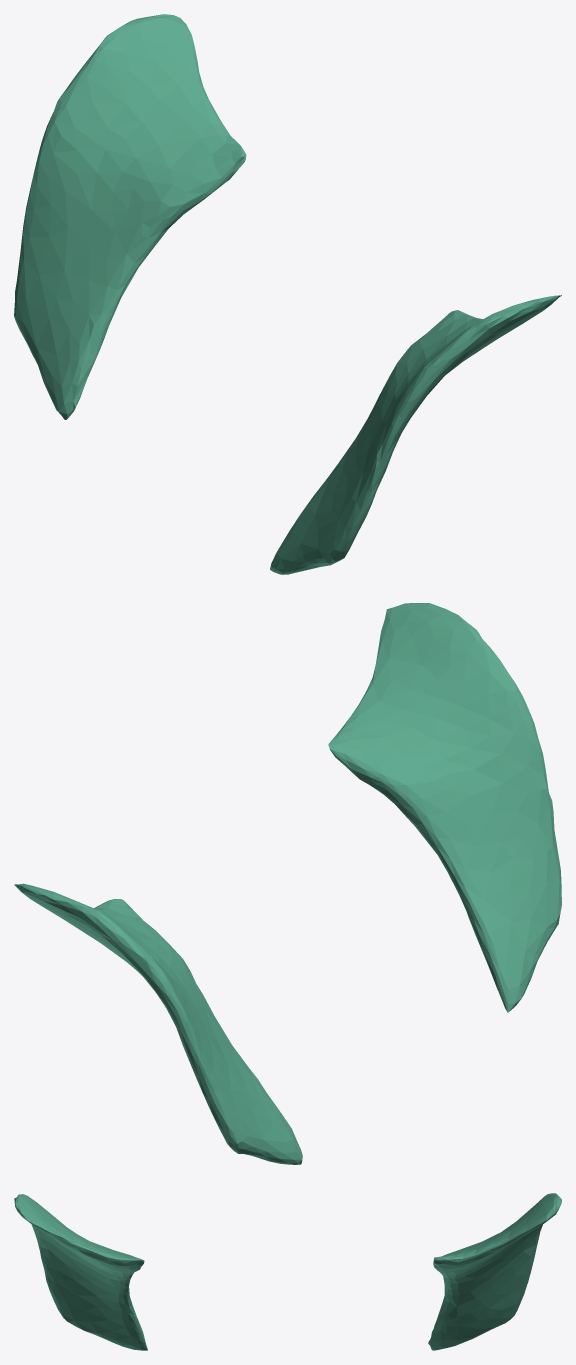
3 views of the same model, one above another, from view 1: azimuth 30°, elevation 25°; view 2: azimuth 150°, elevation 25°; view 3: azimuth 270°, elevation 25° (orthographic). The views are drawn at different scales.
Parts seen in each view (by area): view 1: 448.obj; view 2: 448.obj; view 3: 448.obj.
Boxes of the visible parts, x1,y1,x2,y2 form: 448.obj: [14, 14, 561, 574]; 448.obj: [14, 603, 561, 1164]; 448.obj: [14, 1193, 561, 1350].
Bounding box in the file's own units: 1233 × 1661 × 3998.
